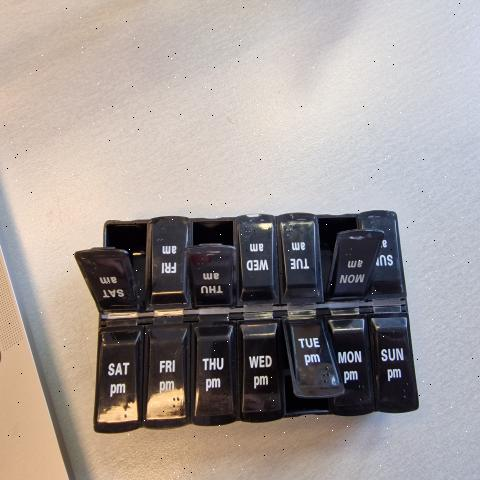Open: (281, 321, 344, 415), (318, 213, 360, 296), (105, 222, 147, 301), (192, 217, 234, 248)
